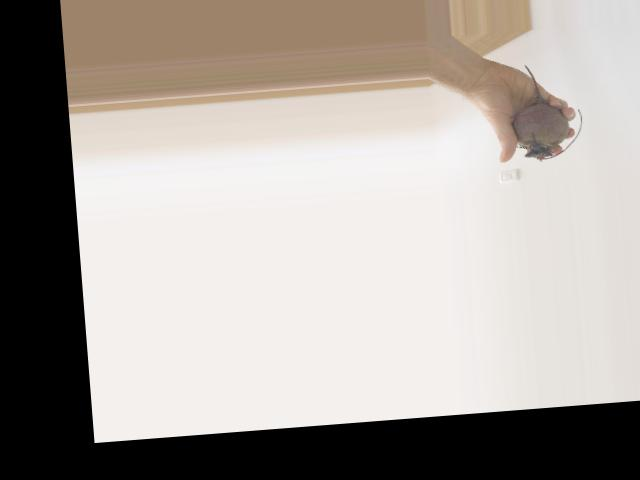beet: (509, 60, 586, 162)
